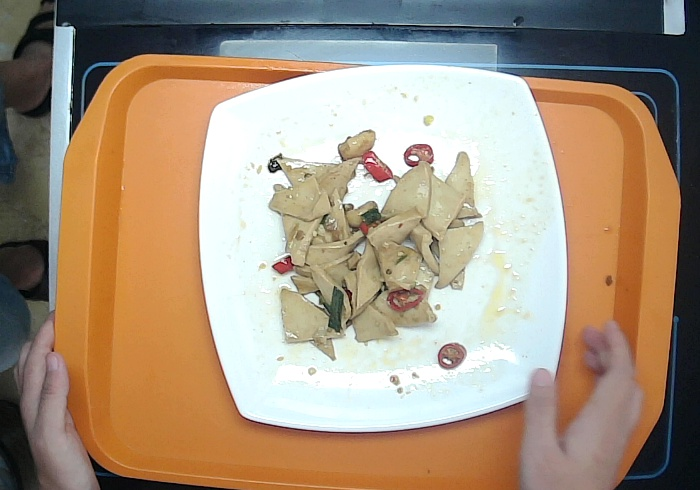ZNLD-Bai_Fang_Pan: (194, 61, 572, 436)
